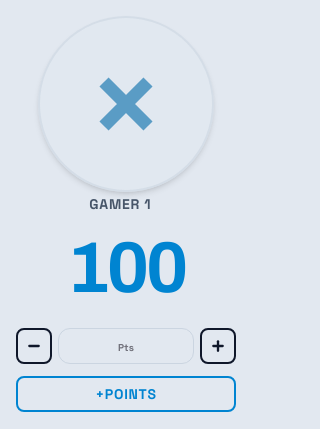
Test: Individual player scorecard mutations › updates points input value and increments score on Add Points click
// Type 25 points into input
Type "25" into the number field with placeholder "Pts".
click(126, 346); type("25")  # box [58,328,194,364]
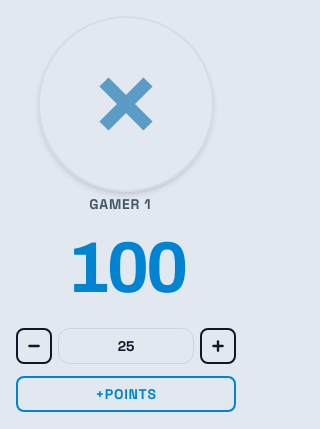
// Click Add Points button
Click the button "+Points".
click(126, 394)  # box [16,376,236,412]
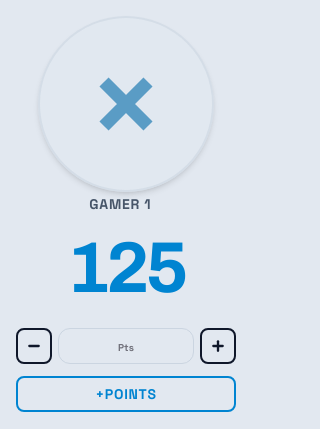
Now the text "125" is shown, box [67,232,185,304]
Now the number field with placeholder "Pts" is not empty, box [58,328,194,364]
